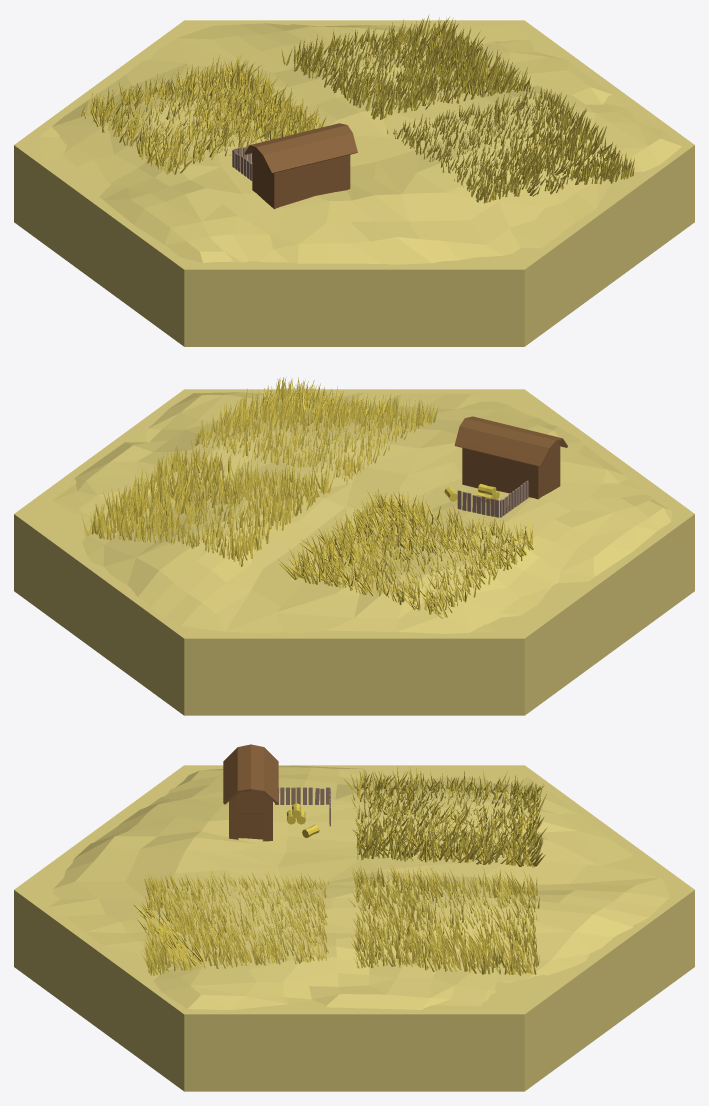
The model's file is fieldfix.fbx.
The picture shows the model from 3 angles, top to bottom: view 1: azimuth 30°, elevation 25°; view 2: azimuth 150°, elevation 25°; view 3: azimuth 270°, elevation 25°; orthographic projection.
Visible parts, largest first — view 1: Plane, Hexagon, Cube; view 2: Plane, Hexagon, Cube; view 3: Plane, Hexagon, Cube.
Part boxes in pixels (x1,y1,x2,y2): Plane: [39, 23, 681, 264]; Hexagon: [14, 20, 694, 346]; Cube: [244, 123, 357, 209]; Plane: [30, 392, 671, 633]; Hexagon: [14, 389, 694, 715]; Cube: [454, 416, 567, 499]; Plane: [50, 765, 669, 1009]; Hexagon: [14, 765, 694, 1091]; Cube: [223, 744, 278, 841].
Size of the model in its own units: 346 by 96.81 by 400.
